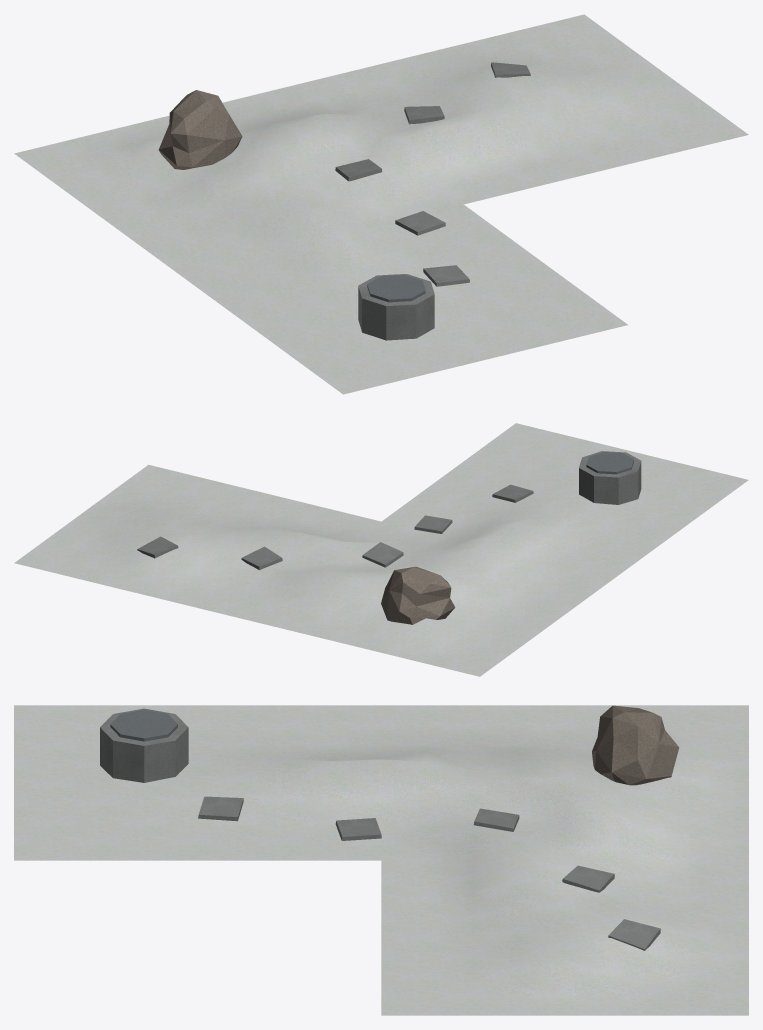
Rendered from corner_4.obj.
3 views of the same model, one above another, from view 1: azimuth 30°, elevation 25°; view 2: azimuth 150°, elevation 25°; view 3: azimuth 270°, elevation 25° (orthographic). The views are drawn at different scales.
Parts seen in each view (by area): view 1: corner_4_Cube.021; view 2: corner_4_Cube.021; view 3: corner_4_Cube.021.
Part boxes in pixels (x1,y1,x2,y2): corner_4_Cube.021: (14,14,748,394); corner_4_Cube.021: (14,423,748,676); corner_4_Cube.021: (14,705,748,1015).
Size of the model in its own units: 1024 by 124 by 1024.
